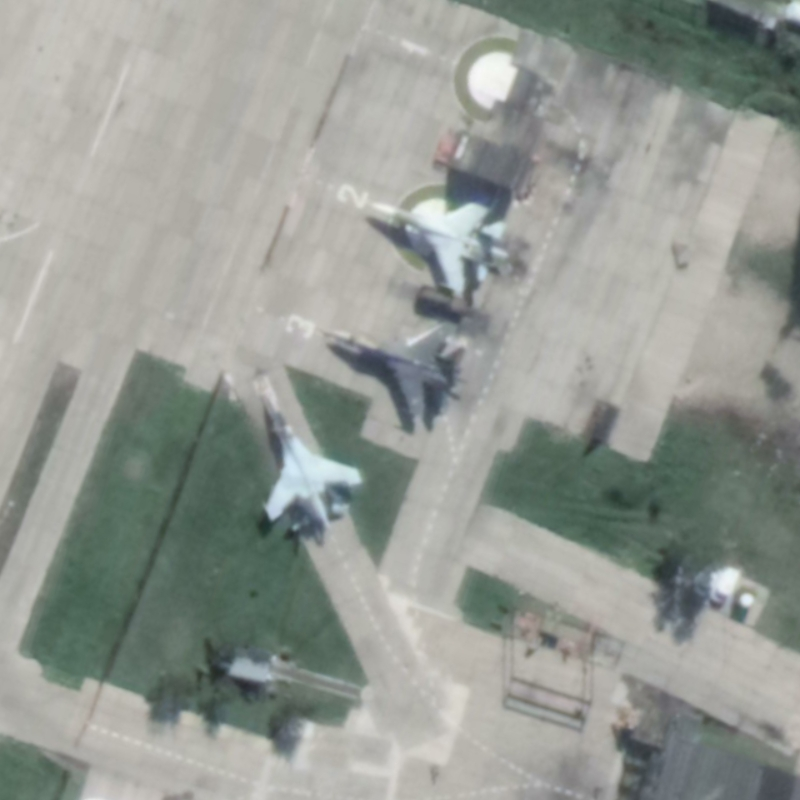A1: (320, 311, 469, 439), (253, 371, 366, 538), (363, 191, 513, 306)
